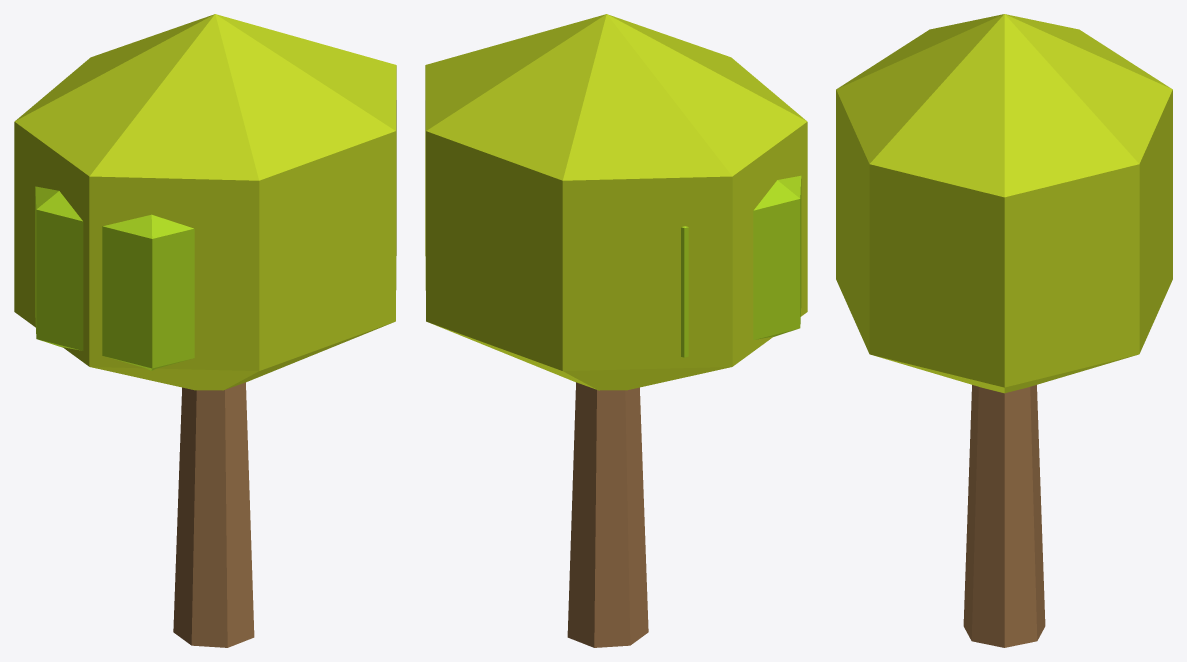
The model's file is Tree_Round_LowPoly.glb.
3 views of the same model, side by side, from view 1: azimuth 30°, elevation 25°; view 2: azimuth 150°, elevation 25°; view 3: azimuth 270°, elevation 25° (orthographic).
Visible parts, largest first — view 1: Tree_Round_LowPoly; view 2: Tree_Round_LowPoly; view 3: Tree_Round_LowPoly.
Part boxes in pixels (x1,y1,x2,y2): Tree_Round_LowPoly: (14, 14, 396, 647); Tree_Round_LowPoly: (425, 14, 807, 647); Tree_Round_LowPoly: (836, 14, 1172, 647).
Size of the model in its own units: 2.02 by 3.24 by 1.6.
